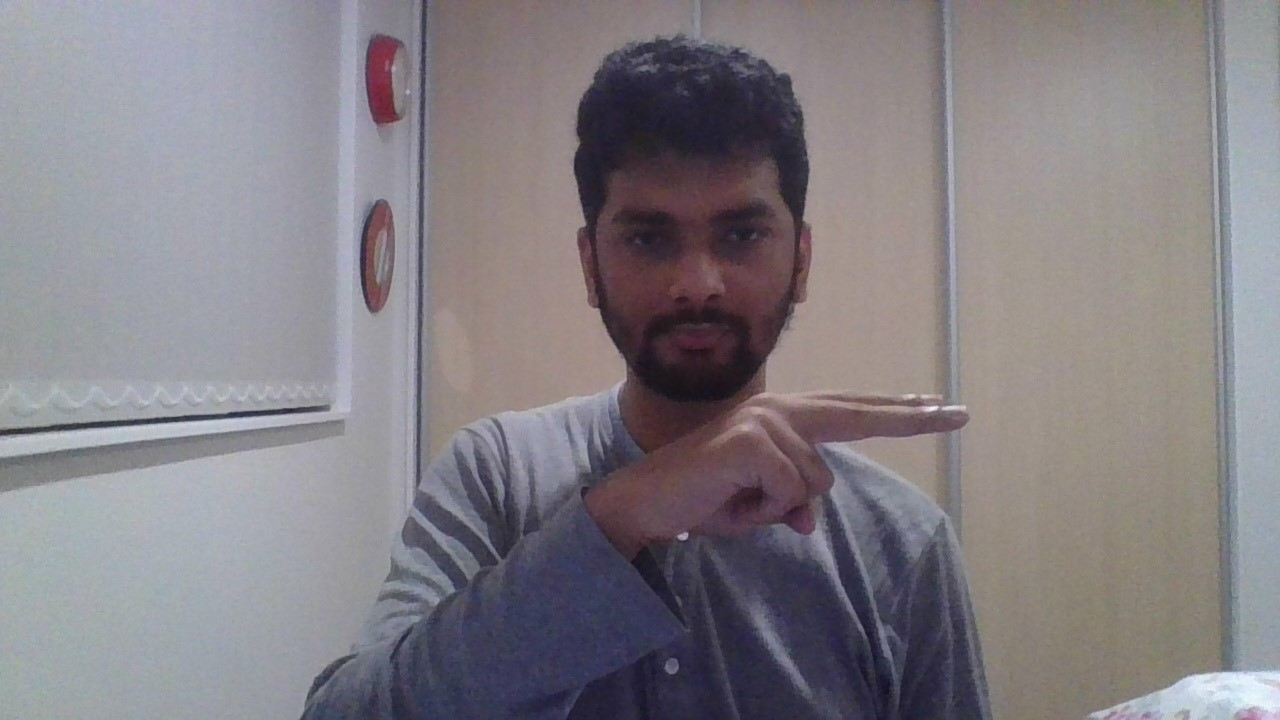look_around: (585, 393, 969, 562)
